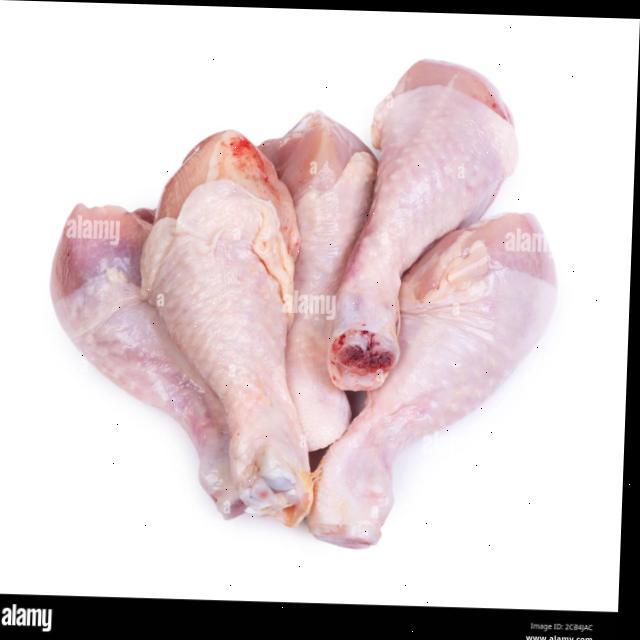leg: (334, 207, 548, 549), (142, 130, 324, 506), (47, 197, 248, 520), (358, 52, 504, 367), (256, 108, 364, 454)
